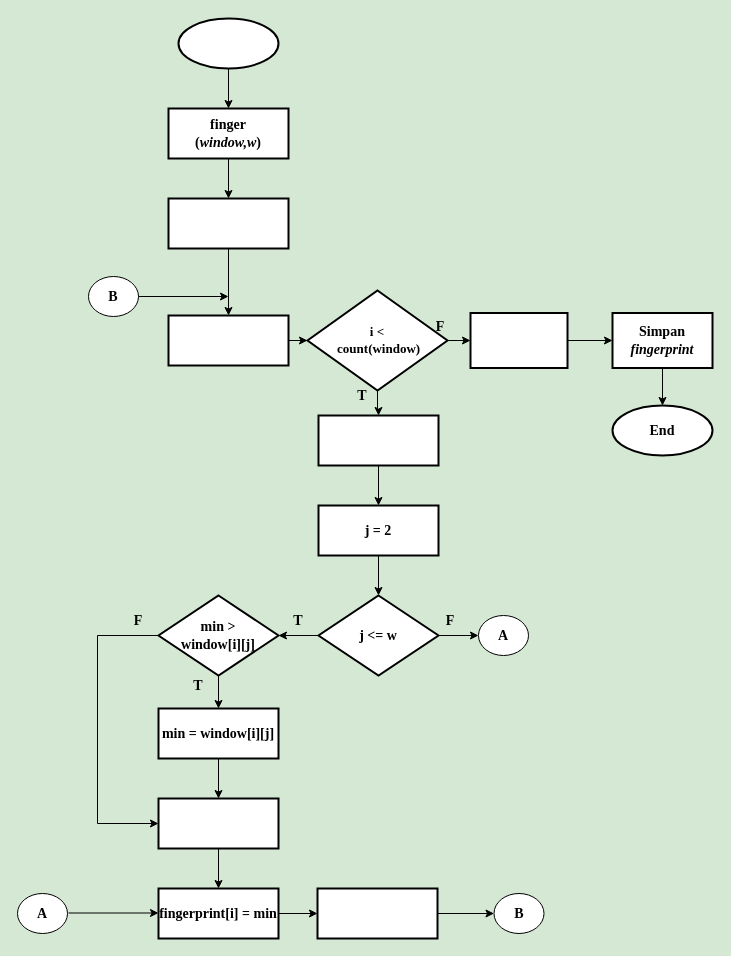
The diagram is 731 pixels wide and 956 high, and some of its shapes have lost their labels. Here are the shapes that lost their labels. From the top down, the centre of each, then its label:
point 228,43: Start
point 228,223: fingerprint = array()
point 228,340: i = 0
point 518,340: return fingerprint
point 378,440: min = window[i][1]
point 218,823: j++
point 377,913: i++
